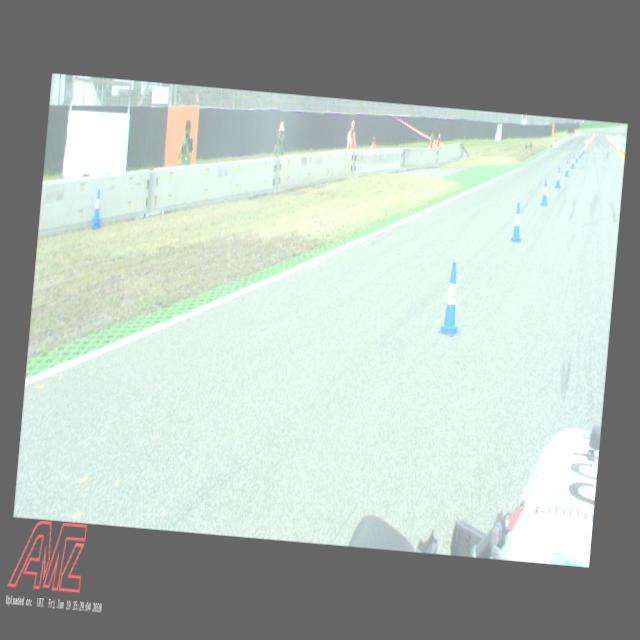blue_cone: (438, 260, 465, 338), (510, 202, 524, 242), (90, 186, 102, 222), (540, 178, 549, 206), (554, 166, 562, 188), (564, 160, 569, 177), (571, 155, 575, 168), (574, 150, 578, 162), (578, 147, 582, 158), (580, 144, 584, 154), (582, 143, 584, 152)
yellow_cone: (619, 146, 622, 156), (616, 145, 619, 153), (622, 148, 624, 159)
